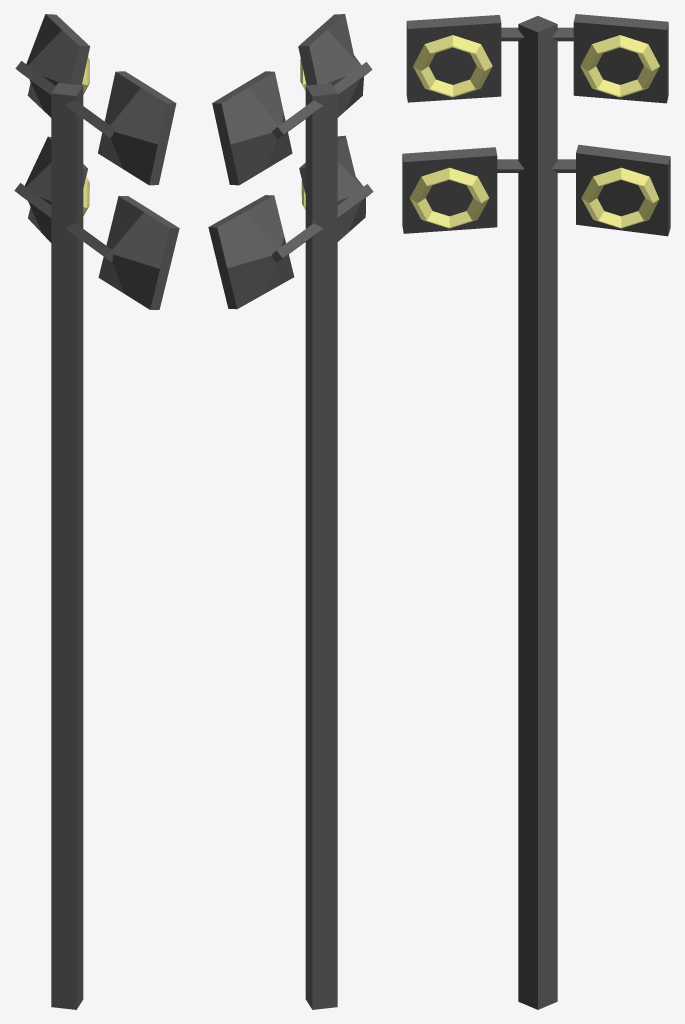
Rendered from big_light.fbx.
3 views of the same model, side by side, from view 1: azimuth 30°, elevation 25°; view 2: azimuth 150°, elevation 25°; view 3: azimuth 270°, elevation 25° (orthographic). The views are drawn at different scales.
Visible parts, largest first — view 1: Cylinder, Cube.003, Cube.001, Cube, Cube.002, Cylinder.002, Cylinder.001; view 2: Cylinder, Cube.002, Cube, Cube.001, Cube.003, Cylinder.001, Cylinder.002; view 3: Cylinder, Cube, Cube.001, Cube.003, Cube.002, Torus.001, Torus, Torus.003, Torus.002, Cylinder.001.
Boxes of the visible parts, x1=… form: Cylinder: x1=51, y1=82, x2=83, y2=1009; Cube.003: x1=98, y1=196, x2=179, y2=309; Cube.001: x1=98, y1=71, x2=176, y2=185; Cube: x1=26, y1=14, x2=89, y2=117; Cube.002: x1=25, y1=136, x2=87, y2=242; Cylinder.002: x1=15, y1=61, x2=114, y2=138; Cylinder.001: x1=14, y1=183, x2=114, y2=261; Cylinder: x1=305, y1=83, x2=337, y2=1009; Cube.002: x1=208, y1=195, x2=294, y2=309; Cube: x1=212, y1=71, x2=292, y2=185; Cube.001: x1=298, y1=14, x2=363, y2=117; Cube.003: x1=299, y1=135, x2=365, y2=241; Cylinder.001: x1=271, y1=184, x2=373, y2=262; Cylinder.002: x1=272, y1=62, x2=372, y2=139; Cylinder: x1=518, y1=16, x2=557, y2=1009; Cube: x1=573, y1=14, x2=668, y2=103; Cube.001: x1=406, y1=15, x2=501, y2=102; Cube.003: x1=402, y1=147, x2=497, y2=233; Cube.002: x1=576, y1=144, x2=670, y2=236; Torus.001: x1=580, y1=35, x2=659, y2=97; Torus: x1=413, y1=35, x2=492, y2=97; Torus.003: x1=410, y1=167, x2=489, y2=228; Torus.002: x1=581, y1=167, x2=659, y2=228; Cylinder.001: x1=497, y1=159, x2=575, y2=172.
Size of the model in its own units: 57.22 by 744 by 180.
